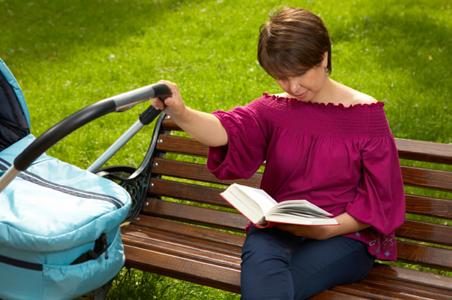person: (150, 8, 408, 299)
